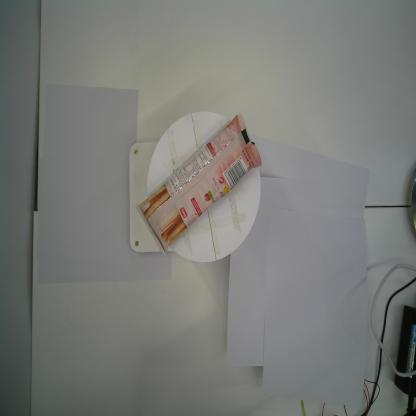Dessert: (136, 113, 262, 256)
